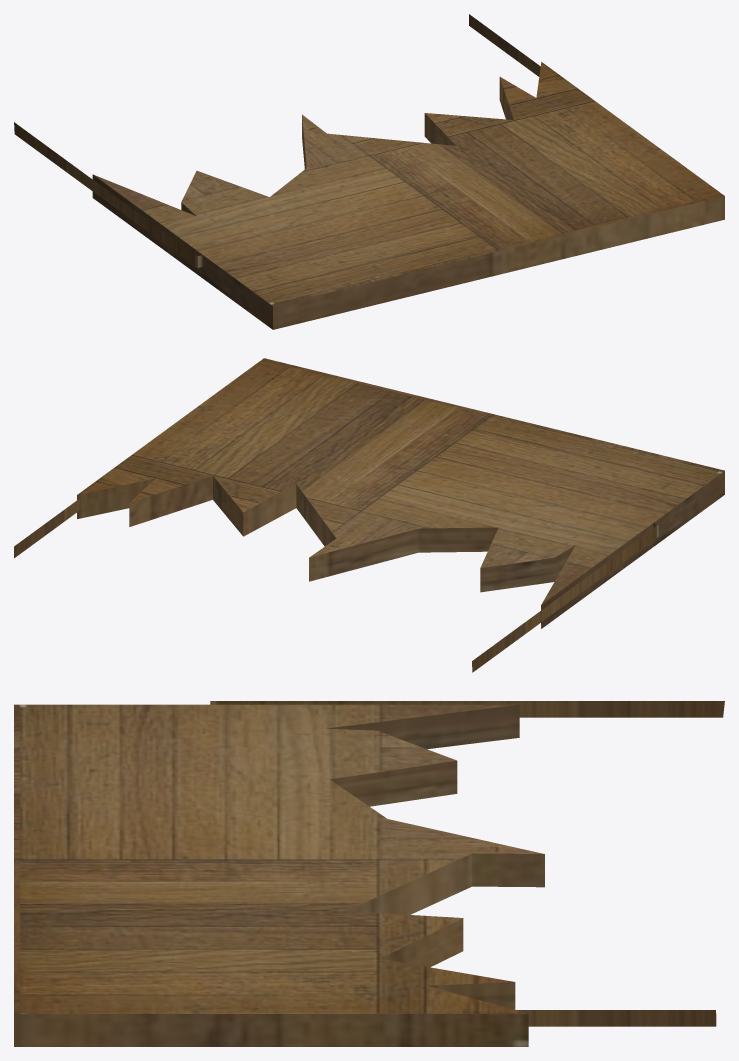
Rendered from brokenFloor.fbx.
3 views of the same model, one above another, from view 1: azimuth 30°, elevation 25°; view 2: azimuth 150°, elevation 25°; view 3: azimuth 270°, elevation 25° (orthographic). The views are drawn at different scales.
Visible parts, largest first — view 1: Plane.004, Plane.002; view 2: Plane.004, Plane.002; view 3: Plane.004, Plane.002.
Boxes of the visible parts, x1=… form: Plane.004: x1=92, y1=62, x2=724, y2=329; Plane.002: x1=14, y1=14, x2=540, y2=267; Plane.004: x1=77, y1=358, x2=724, y2=628; Plane.002: x1=14, y1=493, x2=658, y2=672; Plane.004: x1=14, y1=704, x2=544, y2=1046; Plane.002: x1=210, y1=701, x2=724, y2=1026.
Bounding box in the file's own units: 405 × 20 × 389.
